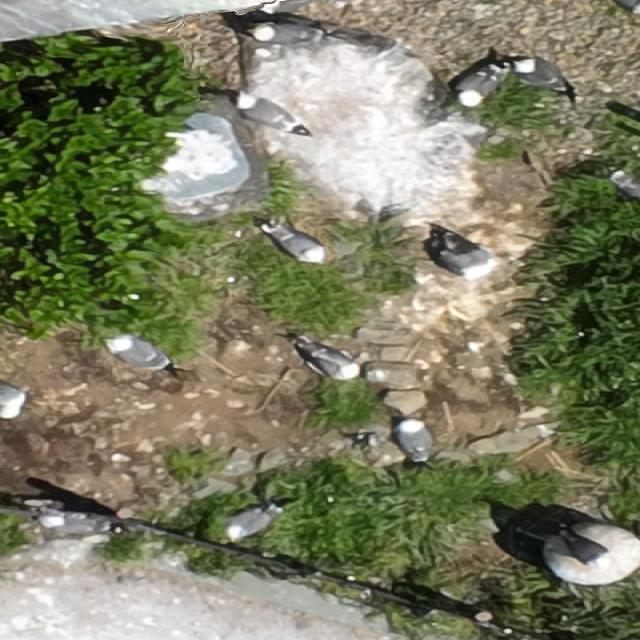umineko: (433, 231, 498, 278), (232, 92, 304, 133), (455, 59, 512, 106), (296, 340, 361, 380), (268, 226, 330, 264), (559, 528, 612, 568), (224, 503, 283, 538), (248, 23, 329, 43), (114, 338, 164, 366), (37, 516, 113, 534), (0, 383, 31, 421), (518, 61, 564, 86), (399, 421, 428, 459), (614, 175, 639, 201), (612, 0, 638, 11)
